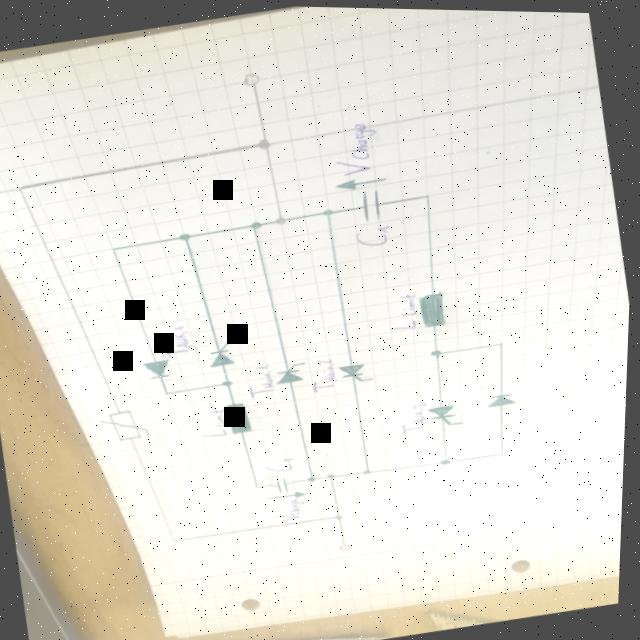capacitor: (356, 184, 387, 223), (272, 472, 296, 495)
diode: (142, 357, 174, 381), (485, 390, 519, 407)
inductor: (417, 289, 451, 328), (223, 400, 255, 436)
junction: (253, 134, 272, 152), (272, 212, 290, 226), (248, 218, 265, 231), (177, 230, 193, 242), (420, 188, 433, 200), (440, 455, 453, 465), (430, 347, 443, 357), (221, 378, 235, 387), (14, 183, 25, 194), (321, 207, 334, 216), (307, 473, 318, 483), (327, 471, 338, 479), (336, 512, 346, 519), (363, 468, 374, 474), (109, 246, 118, 253), (497, 339, 506, 346), (172, 536, 180, 543), (256, 482, 263, 489), (164, 390, 172, 396), (500, 449, 507, 455)
terminal: (239, 69, 262, 89), (339, 539, 355, 551)
text: (327, 116, 383, 177), (383, 290, 423, 334), (156, 323, 195, 360), (398, 398, 434, 435), (309, 355, 342, 394), (246, 362, 279, 400), (353, 222, 393, 249), (271, 496, 309, 524), (199, 407, 230, 439), (265, 455, 299, 475)
thyristor: (206, 339, 240, 368), (427, 401, 463, 428), (338, 359, 374, 385), (273, 359, 308, 385)
